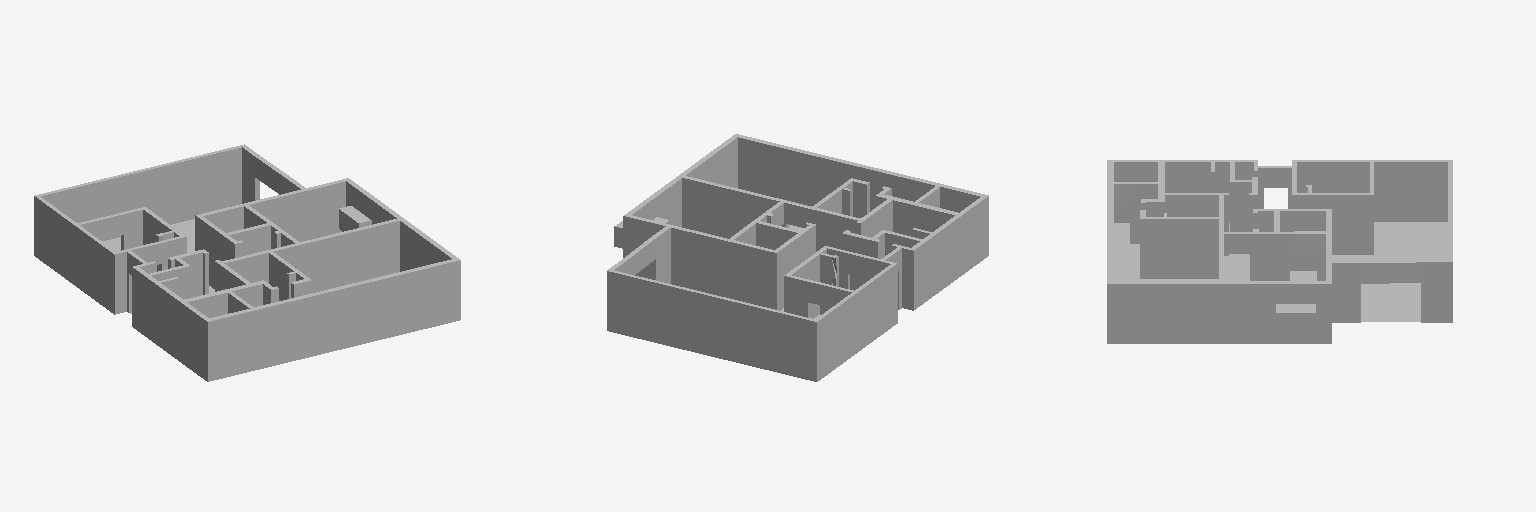
File: FloorPlan.obj
3 views of the same model, side by side, from view 1: azimuth 30°, elevation 25°; view 2: azimuth 150°, elevation 25°; view 3: azimuth 270°, elevation 25° (orthographic).
Visible parts, largest first — view 1: Plane, Plane.001, Cube; view 2: Plane; view 3: Plane, Plane.001, Cube.
Part boxes in pixels (x1,y1,x2,y2): Plane: (34,144,460,381); Plane.001: (102,219,214,313); Cube: (339,206,371,231); Plane: (607,134,988,381); Plane: (1107,160,1452,343); Plane.001: (1114,222,1447,321); Cube: (1276,304,1315,332).
Bounding box in the file's own units: 9.37 × 1.99 × 10.34.